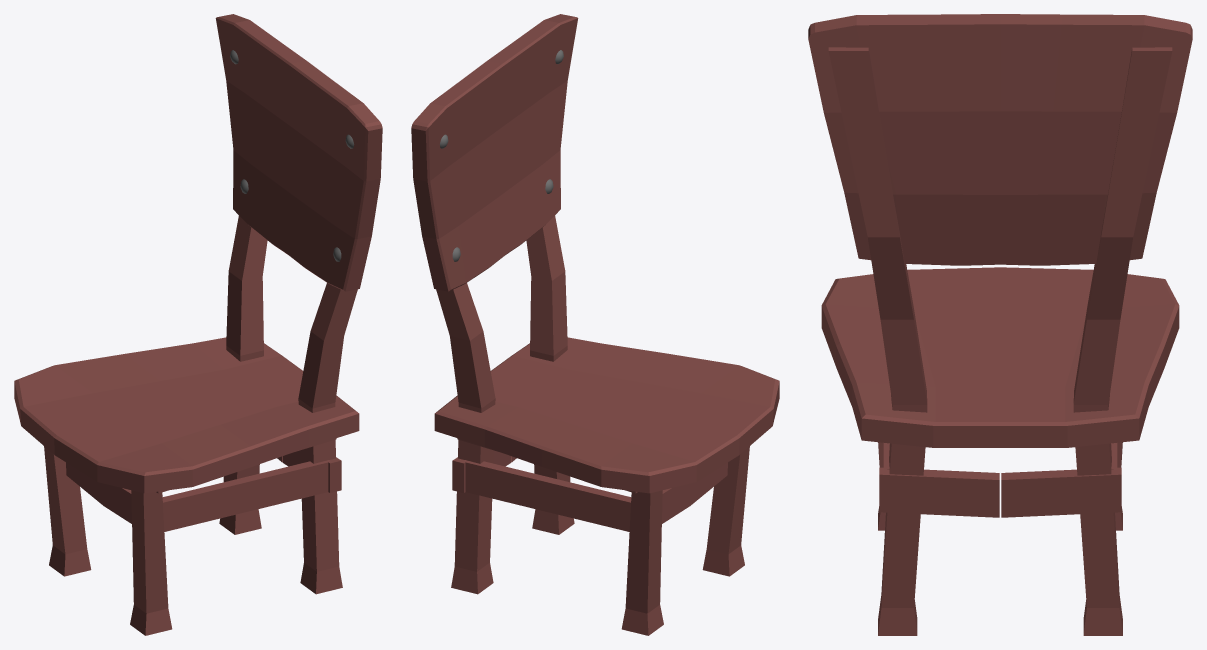
File: Chair_01.glb
3 renders of one model, left to right at view 1: azimuth 30°, elevation 25°; view 2: azimuth 150°, elevation 25°; view 3: azimuth 270°, elevation 25°, orthographic. The views are drawn at different scales.
Parts seen in each view (by area): view 1: Chair; view 2: Chair; view 3: Chair.
Part boxes in pixels (box(x1,y1,x2,y2)): Chair: box(14, 14, 382, 635); Chair: box(411, 14, 779, 635); Chair: box(808, 14, 1192, 635).
Bounding box in the file's own units: 0.7044 × 1.27 × 0.7137.
